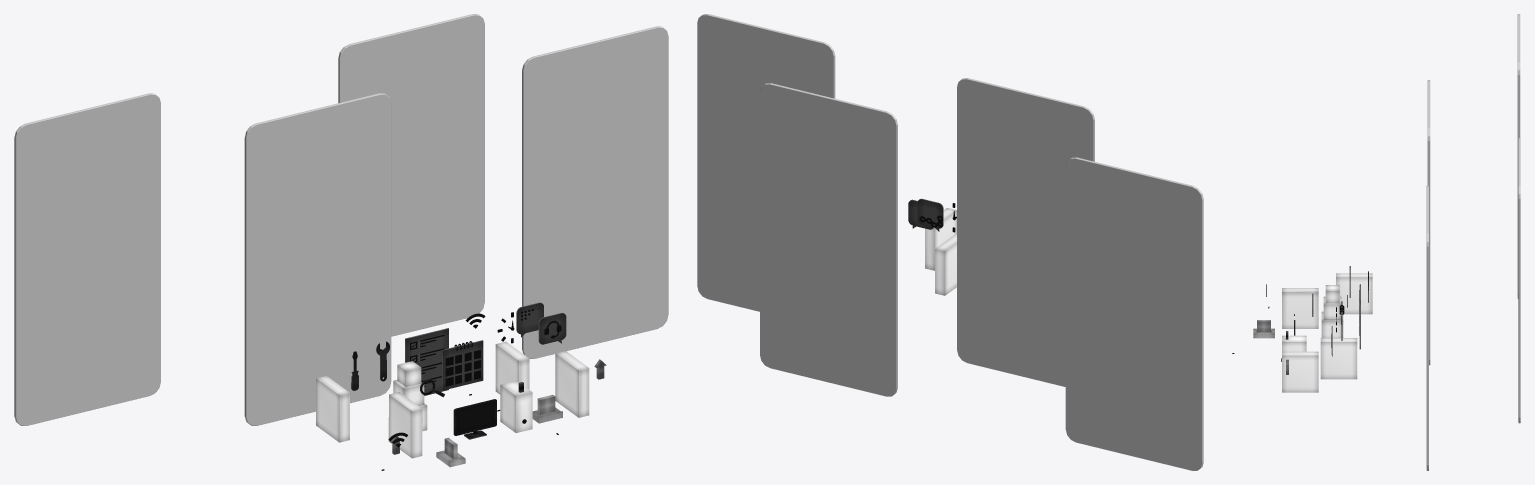
Rendered from beveled_2_baking thickness map.glb.
3 views of the same model, side by side, from view 1: azimuth 30°, elevation 25°; view 2: azimuth 150°, elevation 25°; view 3: azimuth 270°, elevation 25° (orthographic). The views are drawn at different scales.
Parts seen in each view (by area): view 1: Cube.003, Cube, Cube.005, Cube.004, Cube.098, Cube.032, Cube.033, Cube.093, box.001, Cube.031, Cube.077, Cube.092 (+3 smaller); view 2: Cube.003, Cube.004, Cube, Cube.005, Cube.031, Cube.098, Cube.089; view 3: Cube.031, Cube.098, Cube.033, Cube.032, Cube.005, Cube.004, Cube.003, Cube, Cube.097, box.001, Cube.096.
Part boxes in pixels (x1,y1,x2,y2): Cube.003: (14,93,160,425); Cube: (244,93,391,425); Cube.005: (522,26,668,358); Cube.004: (338,14,484,336); Cube.098: (555,351,589,417); Cube.032: (316,376,349,442); Cube.033: (388,392,422,458); Cube.093: (405,328,448,395); box.001: (500,380,532,432); Cube.031: (495,341,529,394); Cube.077: (453,399,496,435); Cube.092: (442,340,483,390); Cube.003: (1065,157,1203,470); Cube.004: (760,83,897,396); Cube: (957,78,1094,386); Cube.005: (697,14,835,311); Cube.031: (935,233,956,295); Cube.098: (925,208,956,270); Cube.089: (917,198,943,231); Cube.031: (1320,338,1357,379); Cube.098: (1282,351,1318,392); Cube.033: (1282,288,1318,328); Cube.032: (1336,273,1372,314); Cube.005: (1426,185,1428,470); Cube.004: (1518,138,1520,423); Cube.003: (1517,14,1520,298); Cube: (1427,80,1430,365); Cube.097: (1321,311,1343,337); box.001: (1282,335,1306,351); Cube.096: (1323,296,1341,320).
Size of the model in its own units: 43.68 by 21.18 by 23.43.
1 material, 1 textured.
